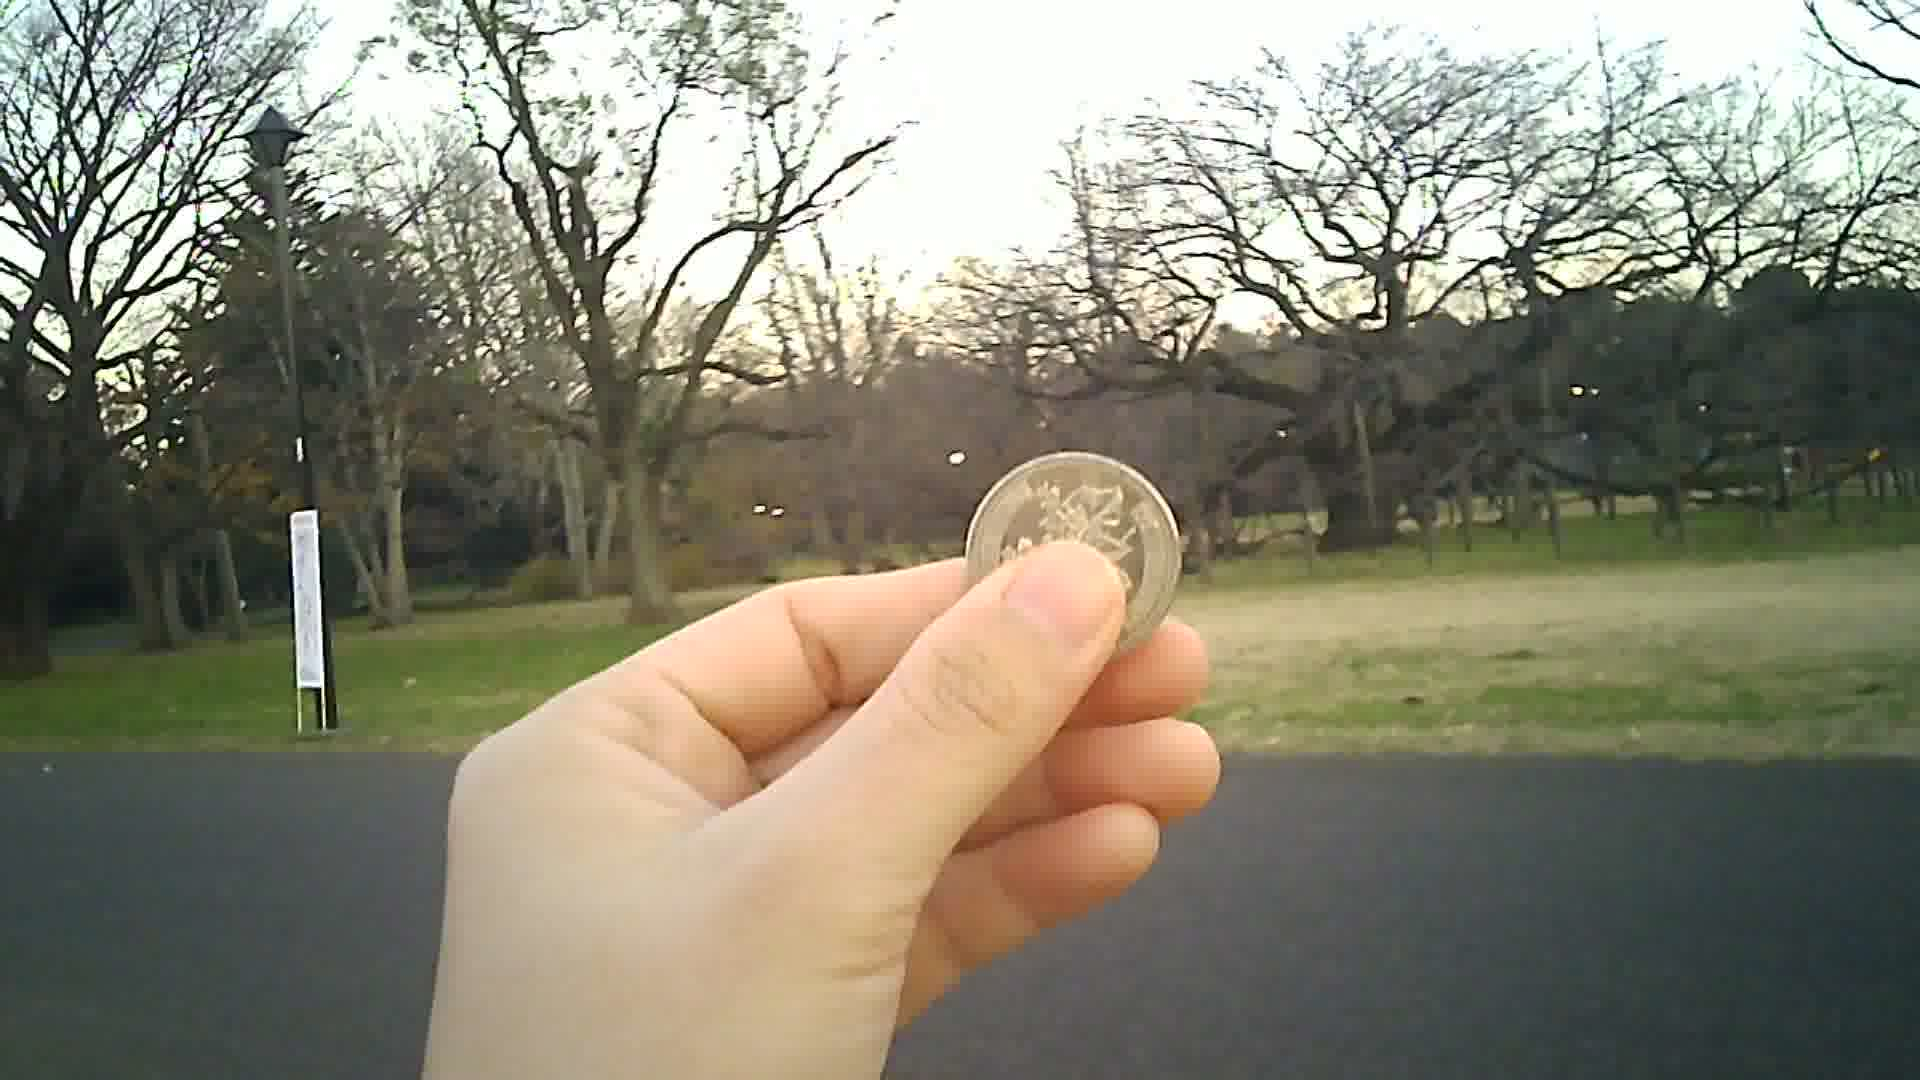500 Yen: (963, 439, 1197, 662)
